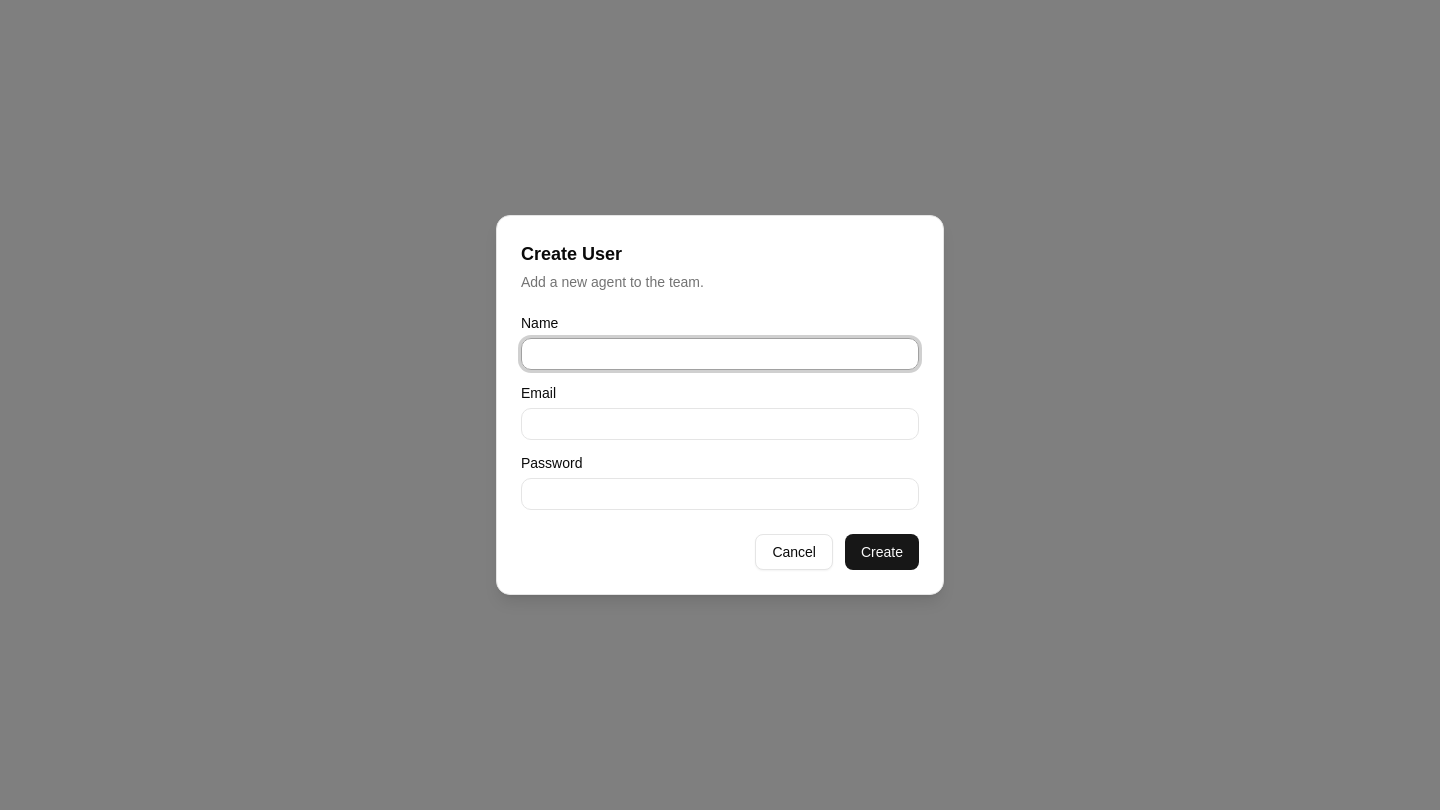
Test: UserFormDialog — create mode › validation errors › shows error for invalid email
Step 1. Type "Test User" into the field labelled "Name" → (720, 354), box [521, 338, 919, 370]
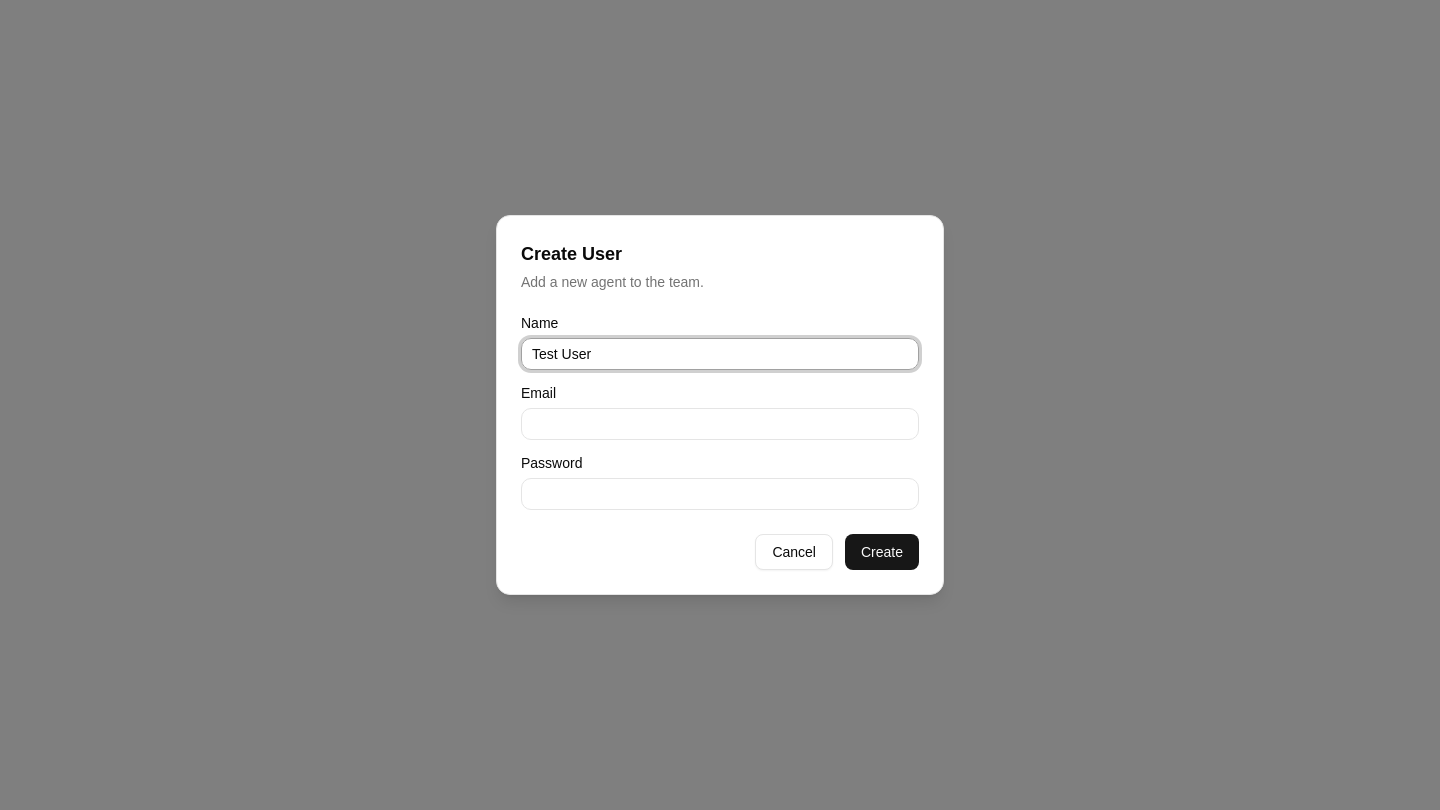
Step 2. Type "not-an-email" into the field labelled "Email" → (720, 424), box [521, 408, 919, 440]
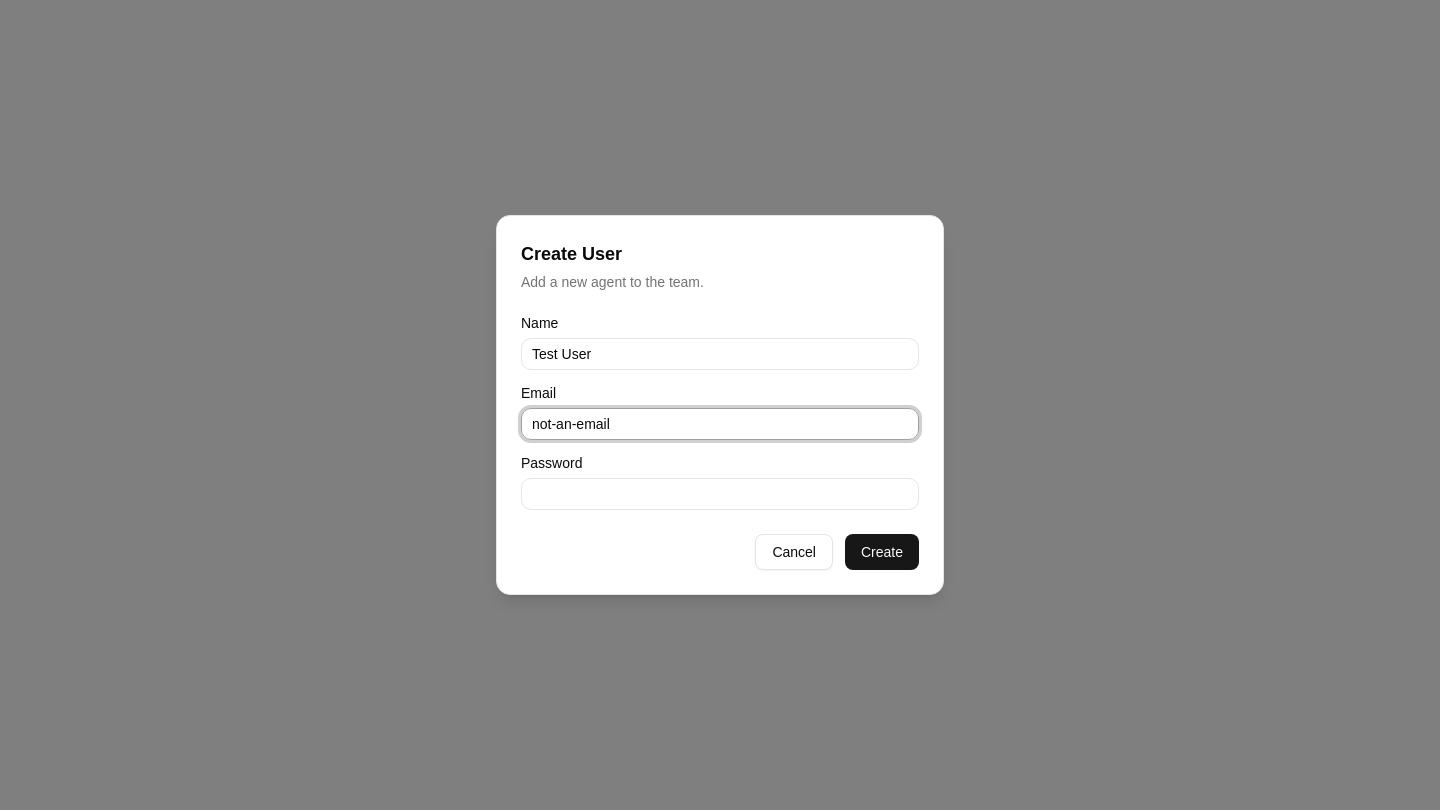
Step 3. Type "password123" into the password field labelled "Password" → (720, 494), box [521, 478, 919, 510]
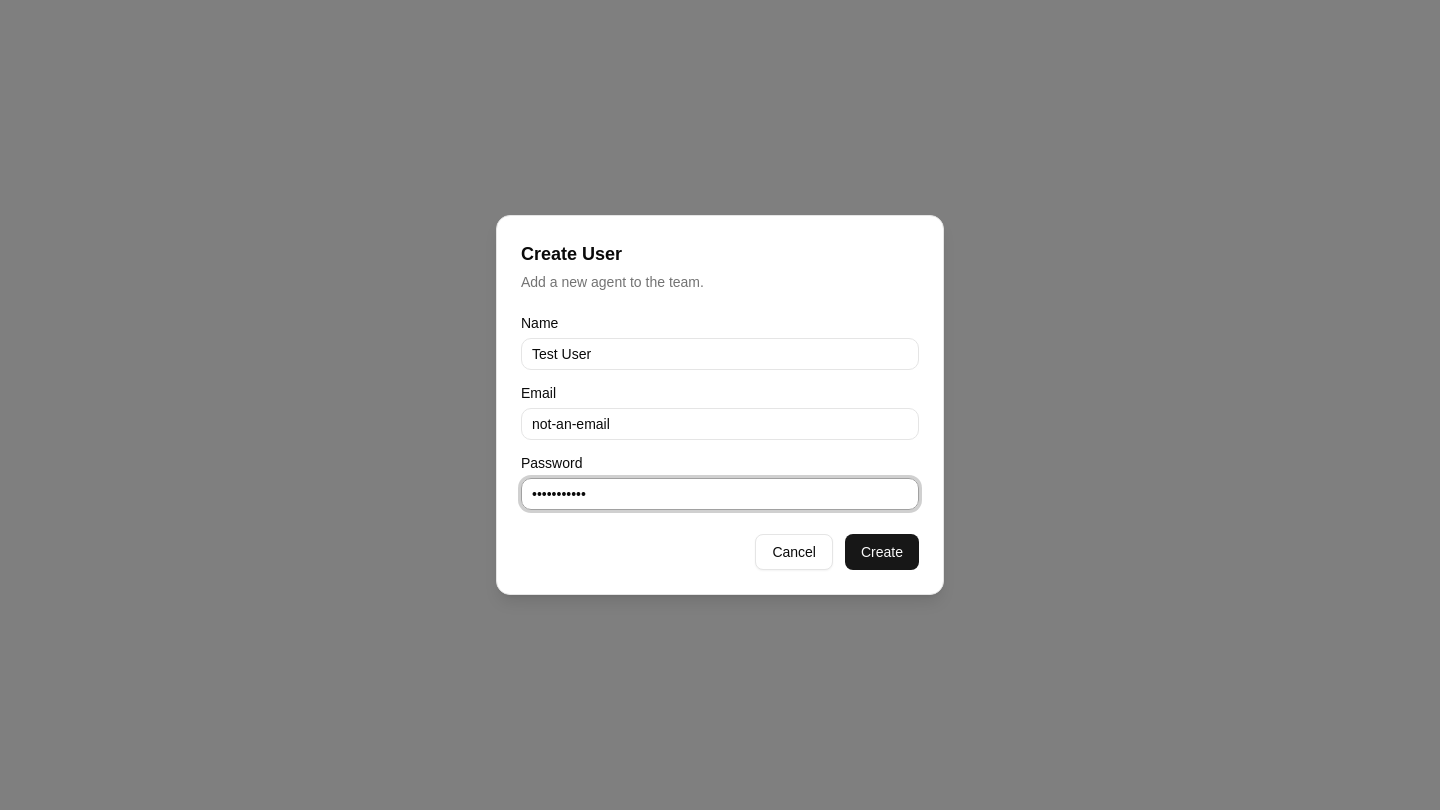
Step 4. Click the button "Create" → click(882, 552), box [845, 534, 919, 570]
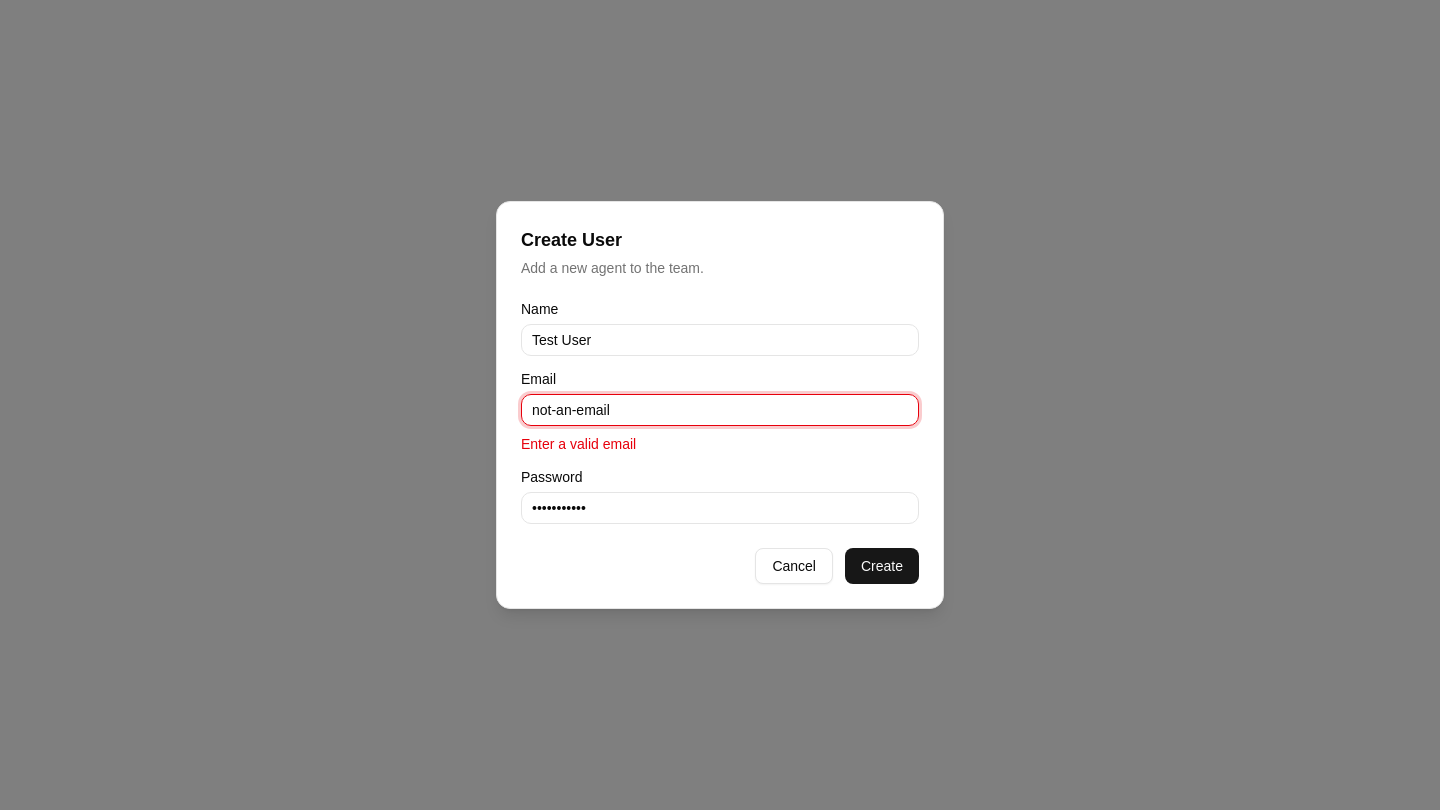
Expected: the text "Enter a valid email" is shown, [521, 436, 636, 452]
